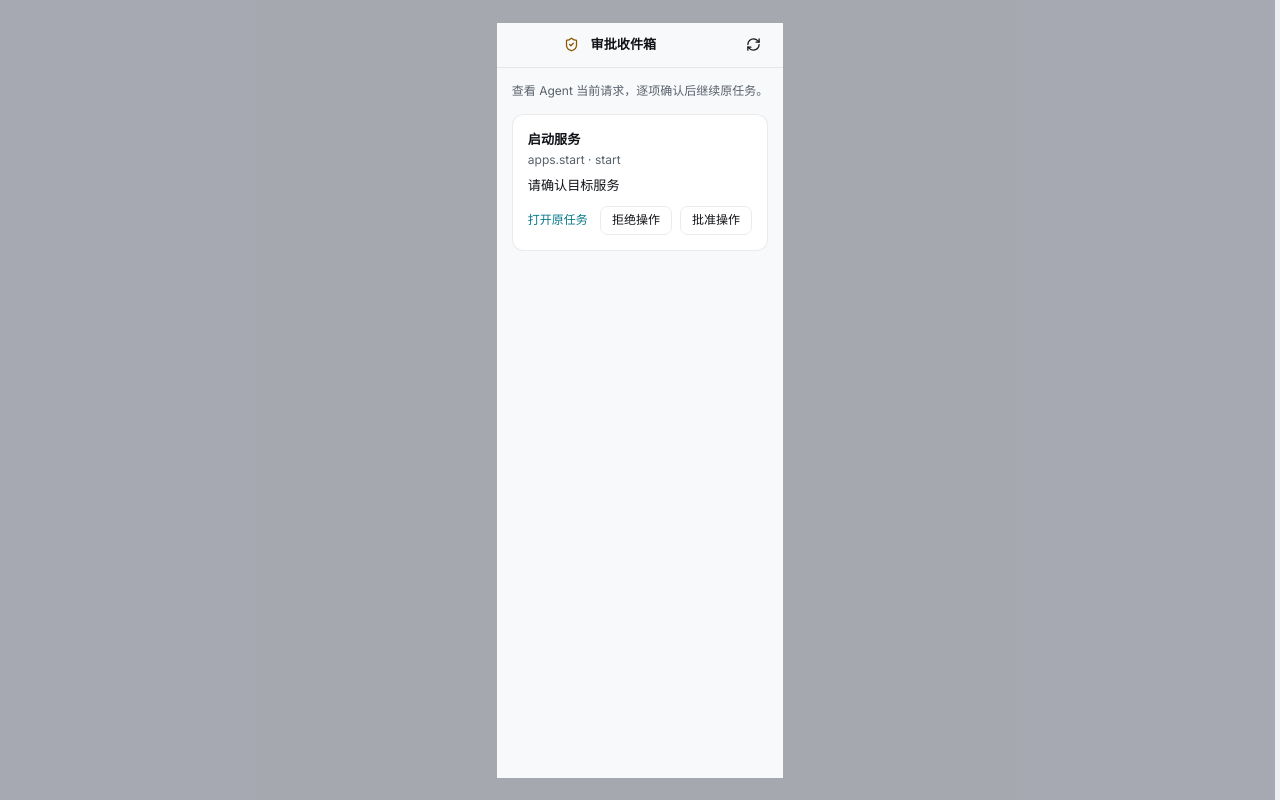
Scenario: Decision inbox › closes review and reports a session change during submission
Click the button "批准操作" at (716, 220), box [680,206,752,235]
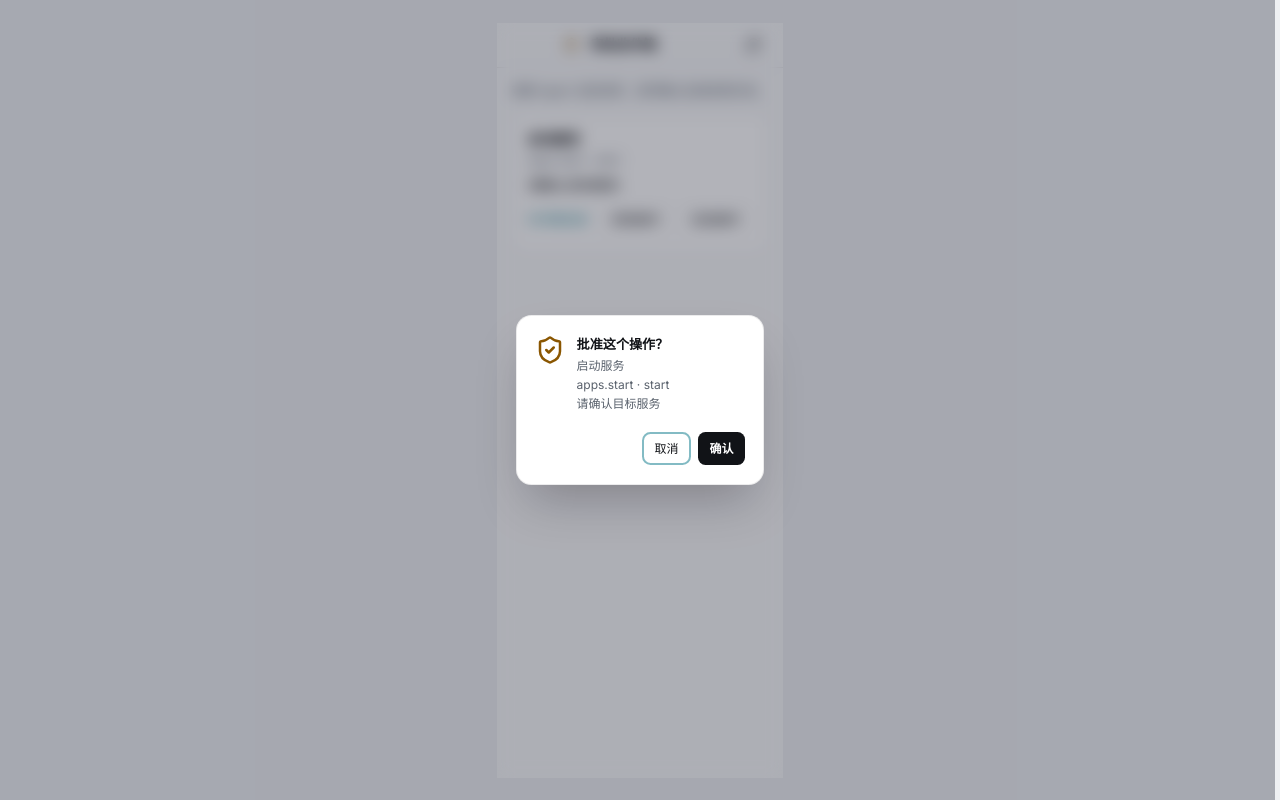
Click the button "确认" at (721, 449), box [698,432,745,465]
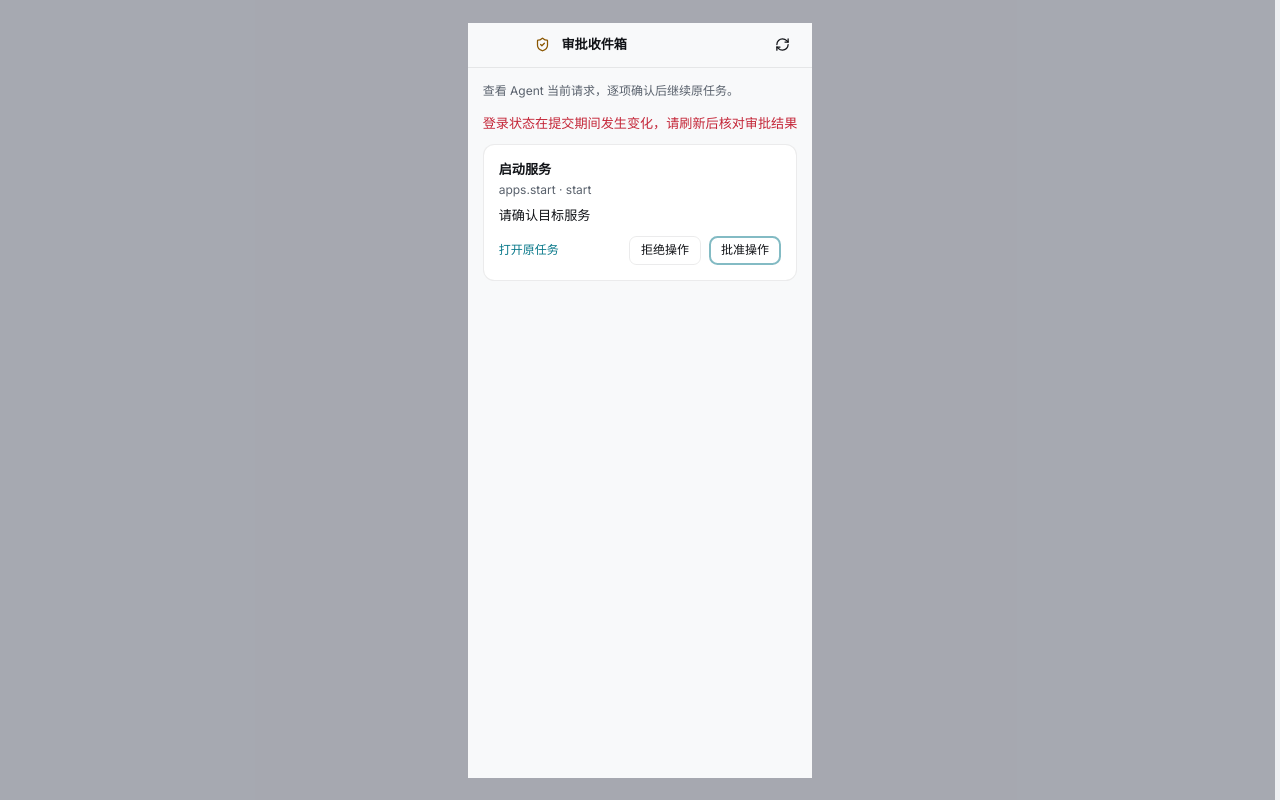
Expected: the dialog "批准这个操作？ 启动服务 apps.start · start 请确认目标服务 取消 确认" is gone
Expected: the message shows "提交期间", [483,114,797,130]
